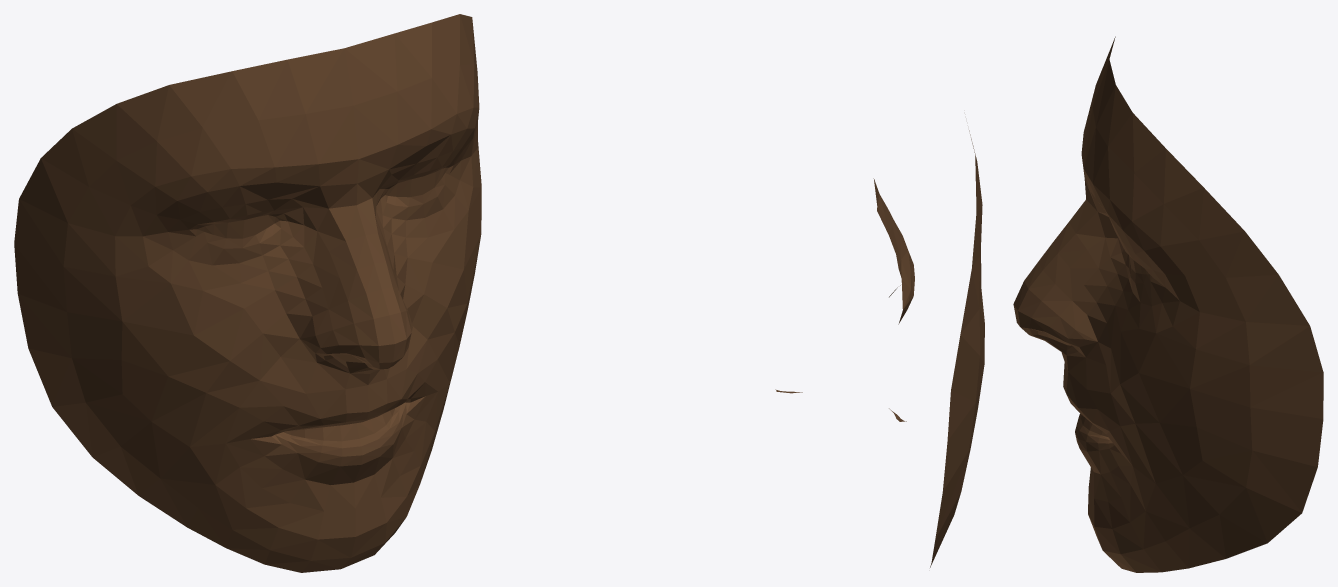
File: canonical_face_model.glb
3 renders of one model, left to right at view 1: azimuth 30°, elevation 25°; view 2: azimuth 150°, elevation 25°; view 3: azimuth 270°, elevation 25°, orthographic. The views are drawn at different scales.
Size of the model in its own units: 15.49 by 17.67 by 10.02.
